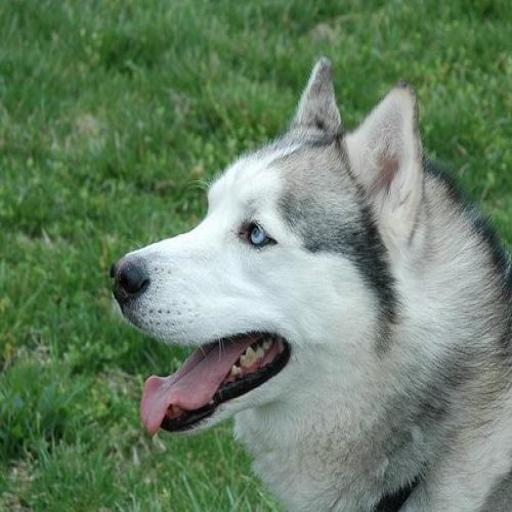dog_face: (114, 72, 445, 436)
